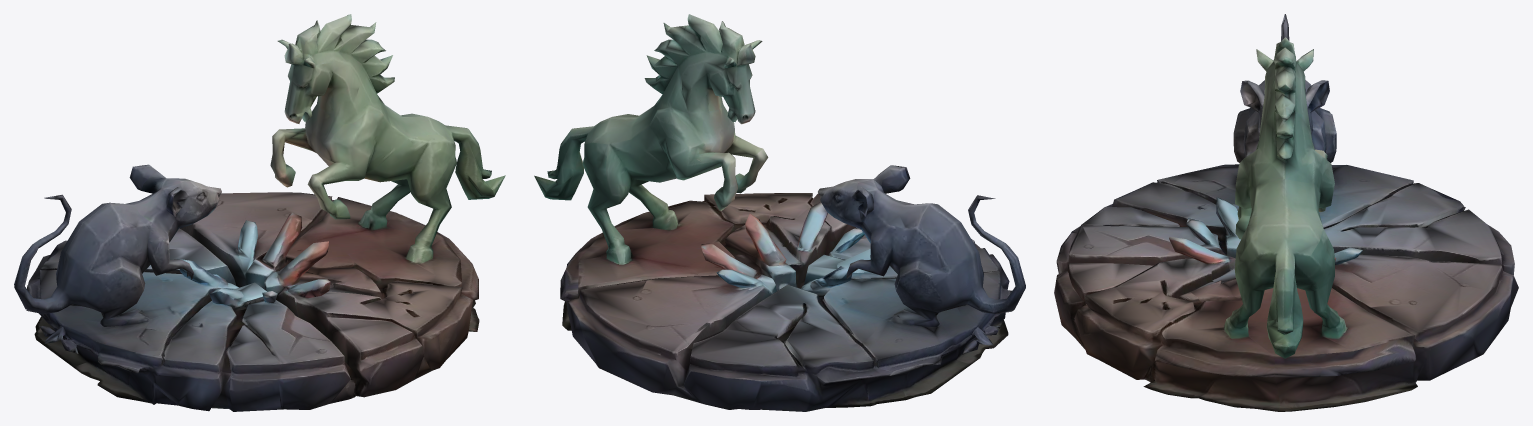
Rendered from chong_zi_wu.glb.
3 views of the same model, side by side, from view 1: azimuth 30°, elevation 25°; view 2: azimuth 150°, elevation 25°; view 3: azimuth 270°, elevation 25° (orthographic). The views are drawn at different scales.
Parts seen in each view (by area): view 1: tripo_node_8a7b498f-14f7-49ab-8f2e-eb0277cac6ec; view 2: tripo_node_8a7b498f-14f7-49ab-8f2e-eb0277cac6ec; view 3: tripo_node_8a7b498f-14f7-49ab-8f2e-eb0277cac6ec.
Boxes of the visible parts, bbox=[...] form: tripo_node_8a7b498f-14f7-49ab-8f2e-eb0277cac6ec: bbox=[14, 14, 505, 411]; tripo_node_8a7b498f-14f7-49ab-8f2e-eb0277cac6ec: bbox=[534, 14, 1025, 411]; tripo_node_8a7b498f-14f7-49ab-8f2e-eb0277cac6ec: bbox=[1054, 14, 1518, 411].
Bounding box in the file's own units: 0.9981 × 0.558 × 0.7734.
Materials: 1 (1 with a texture image).
